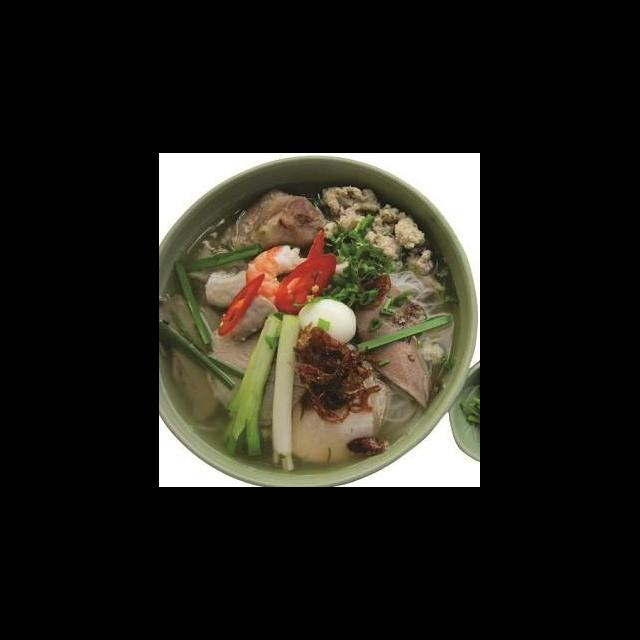banh hu tieu: (376, 371, 426, 440)
gan: (342, 262, 436, 412)
hu tieu: (162, 180, 479, 487), (384, 263, 466, 320)
thit bam: (314, 179, 438, 278)
thit heo: (200, 311, 316, 429)
tom: (242, 238, 352, 314)
trung: (292, 294, 360, 347)
